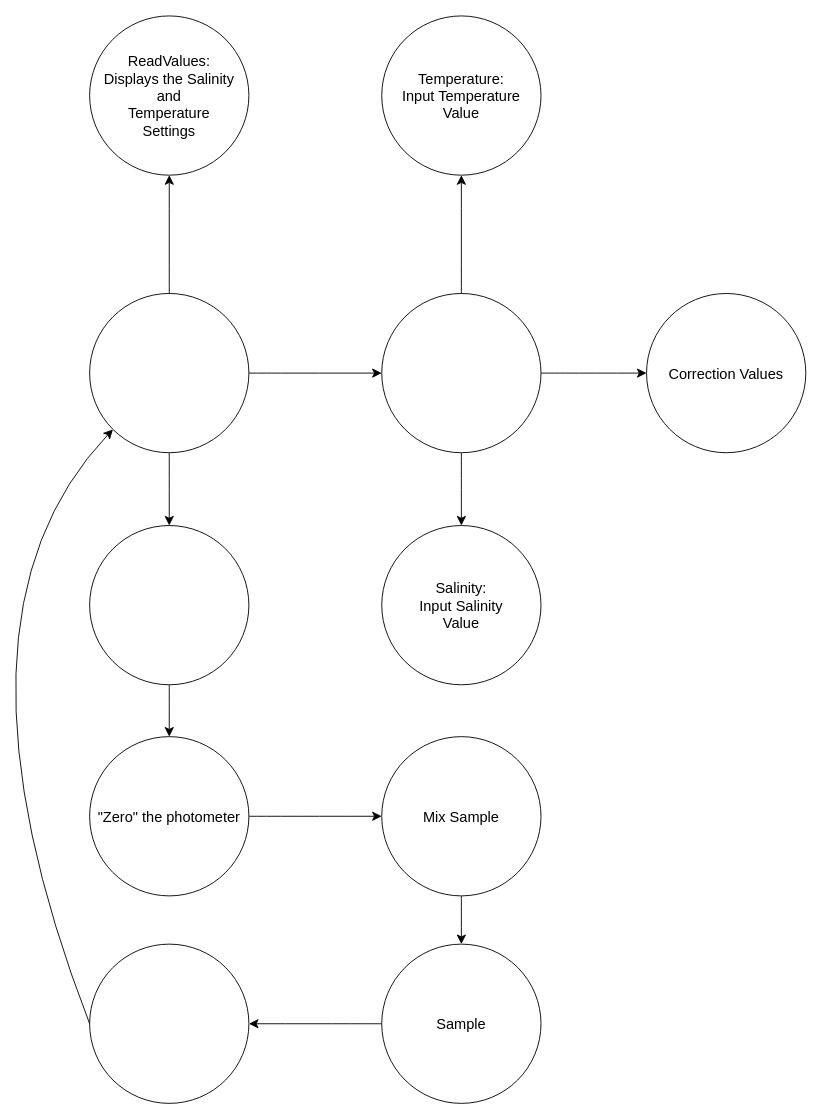
This 823x1119 diagram has some shape labels left out. The shapes that lost their labels are listed below. From the top down, each one's centre as x and y in pixels, then its label:
At (x=169, y=373): "MainMenu".
At (x=461, y=373): "Settings".
At (x=169, y=605): "Add Sample".
At (x=169, y=1023): "Display Absorbances and pH".
